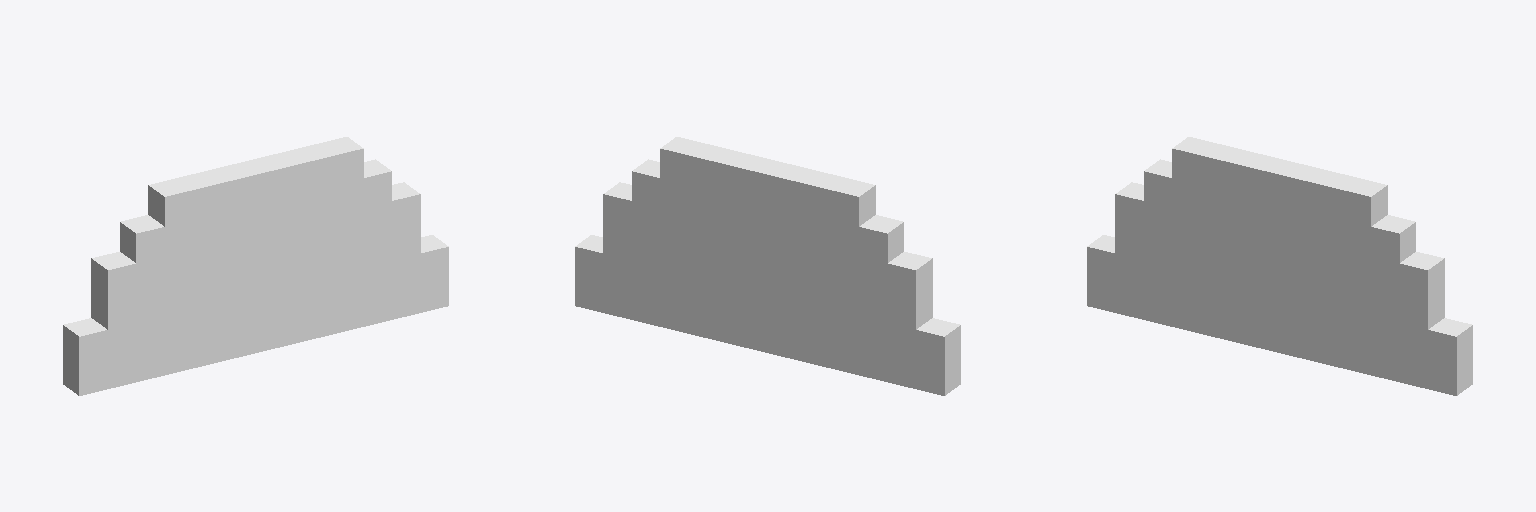
The model's file is santa death.obj.
3 renders of one model, left to right at view 1: azimuth 30°, elevation 25°; view 2: azimuth 150°, elevation 25°; view 3: azimuth 330°, elevation 25°, orthographic.
Parts seen in each view (by area): view 1: object 1; view 2: object 1; view 3: object 1.
Part boxes in pixels (x1,y1,x2,y2): object 1: (63, 137, 448, 395); object 1: (575, 137, 960, 395); object 1: (1087, 137, 1472, 395).
Bounding box in the file's own units: 1.3 × 0.6 × 0.1.